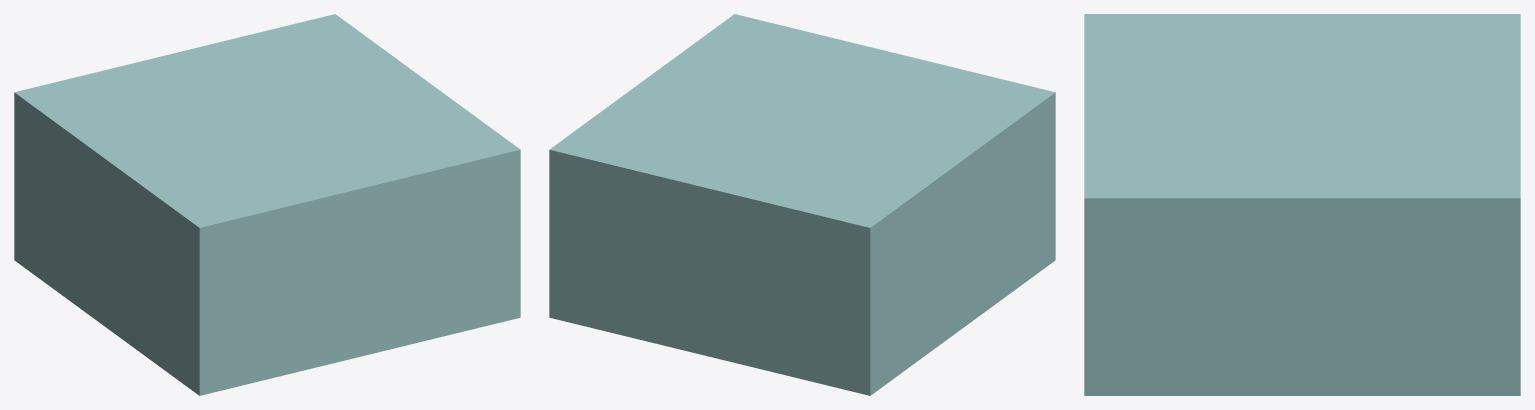
Rendered from Abstract_Castle_Block_Half_Blue_01.fbx.
The picture shows the model from 3 angles, left to right: view 1: azimuth 30°, elevation 25°; view 2: azimuth 150°, elevation 25°; view 3: azimuth 270°, elevation 25°; orthographic projection. The views are drawn at different scales.
Visible parts, largest first — view 1: Model; view 2: Model; view 3: Model.
Part boxes in pixels (bbox=[...]): Model: bbox=[14, 14, 520, 395]; Model: bbox=[549, 14, 1055, 395]; Model: bbox=[1084, 14, 1520, 395].
Size of the model in its own units: 1000 by 500 by 1000.
